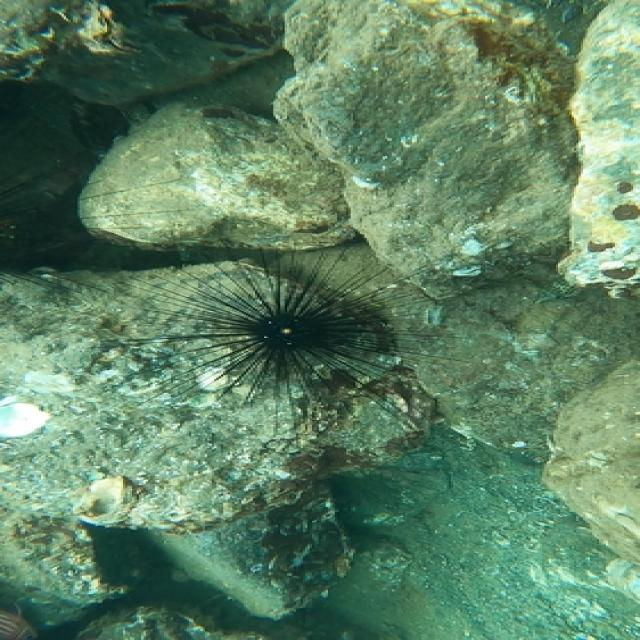Urchin: (102, 246, 467, 408)
